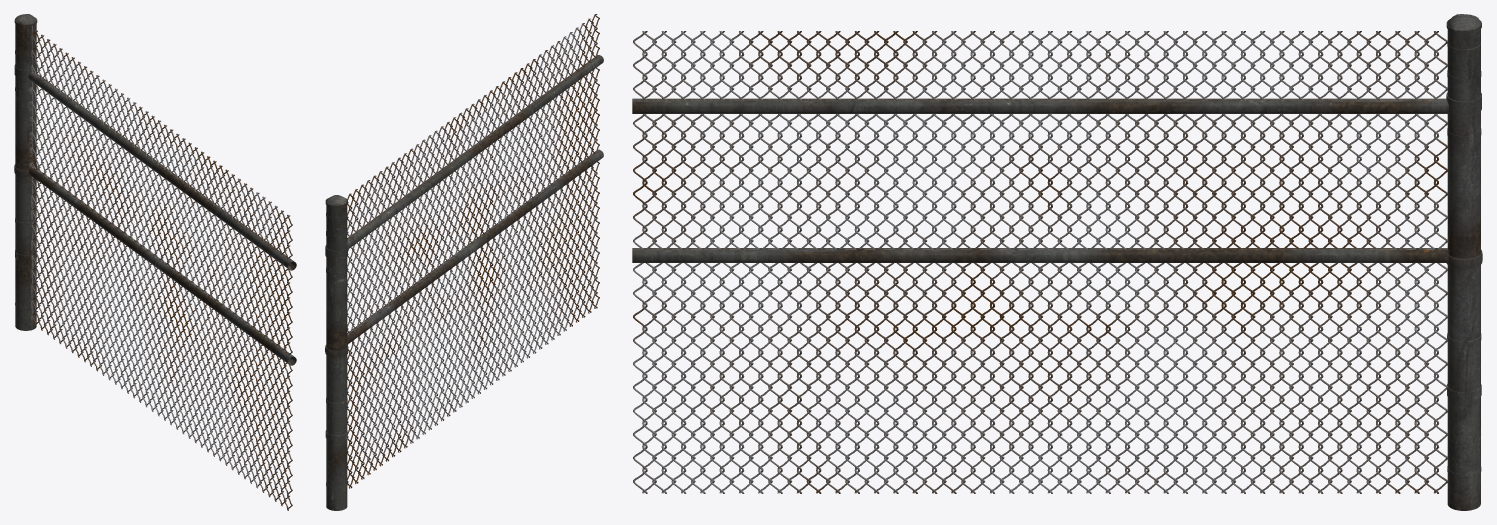
The model's file is ChainLinkFence.fbx.
The picture shows the model from 3 angles, left to right: view 1: azimuth 30°, elevation 25°; view 2: azimuth 150°, elevation 25°; view 3: azimuth 270°, elevation 25°; orthographic projection. The views are drawn at different scales.
Parts seen in each view (by area): view 1: ChainLinkFence; view 2: ChainLinkFence; view 3: ChainLinkFence.
Boxes of the visible parts, x1=… form: ChainLinkFence: x1=14, y1=14, x2=296, y2=510; ChainLinkFence: x1=325, y1=14, x2=603, y2=510; ChainLinkFence: x1=632, y1=14, x2=1482, y2=510.
Bounding box in the file's own units: 22.98 × 334 × 529.
Materials: 1 (1 with a texture image).
